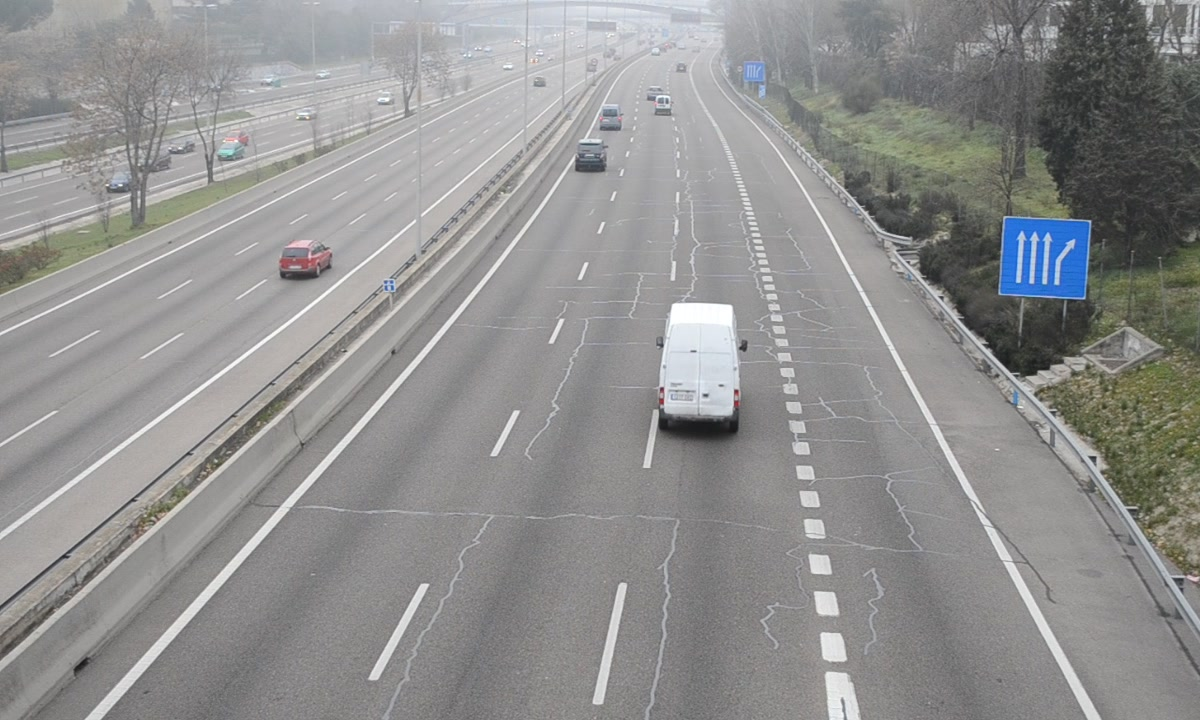car: (575, 139, 607, 171)
van: (661, 301, 740, 431), (598, 102, 622, 130)
